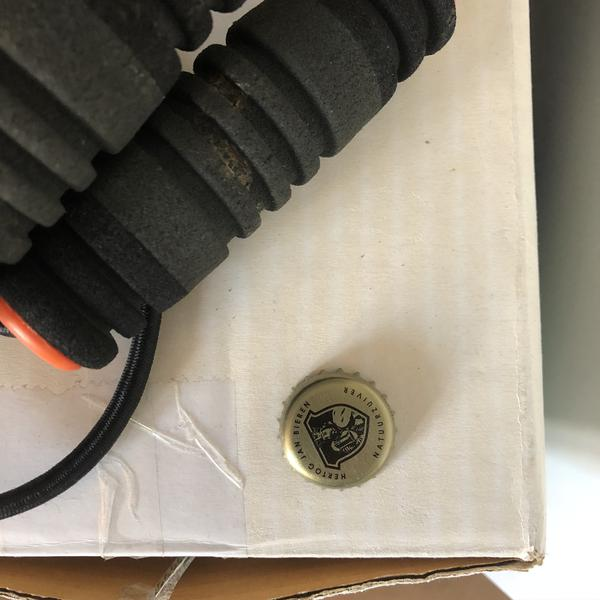hertogjan: (273, 368, 402, 494)
